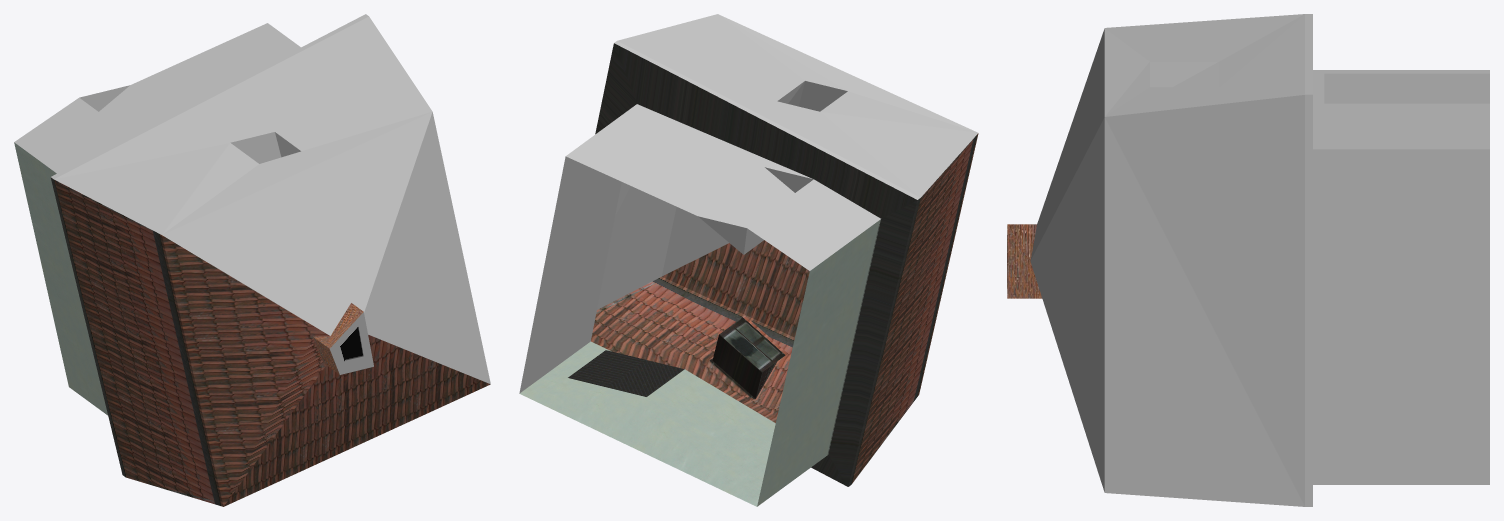
Rendered from Falgi_tee_4_2-origo.obj.
3 views of the same model, side by side, from view 1: azimuth 30°, elevation 25°; view 2: azimuth 150°, elevation 25°; view 3: azimuth 270°, elevation 25° (orthographic). The views are drawn at different scales.
Parts seen in each view (by area): view 1: Falgi_tee_4_2; view 2: Falgi_tee_4_2; view 3: Falgi_tee_4_2.
Boxes of the visible parts, x1,y1,x2,y2 form: Falgi_tee_4_2: [14, 14, 490, 506]; Falgi_tee_4_2: [519, 14, 978, 506]; Falgi_tee_4_2: [1007, 14, 1489, 506].
Bounding box in the file's own units: 6.88 × 7 × 6.4.
